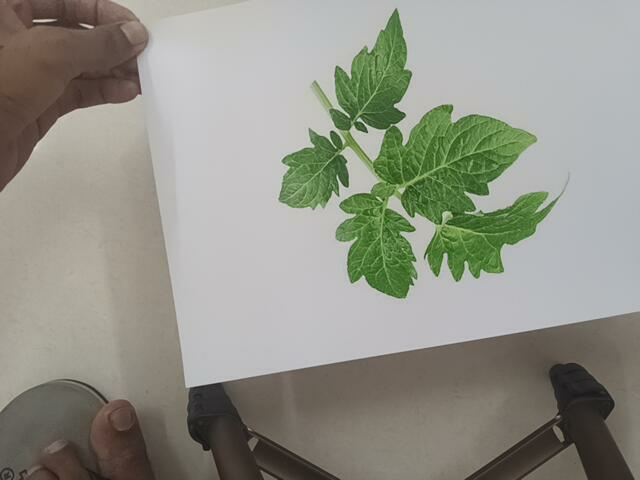Tomamto_Leaf_Healthy: (261, 5, 587, 306)
